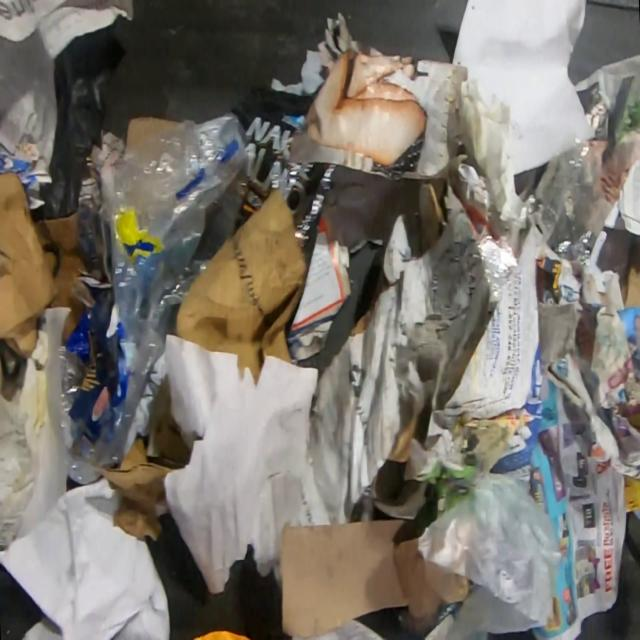cardboard: (175, 186, 309, 385), (278, 518, 468, 639), (93, 373, 192, 542), (64, 207, 130, 460), (285, 188, 353, 365), (0, 169, 60, 361), (32, 211, 104, 343), (617, 309, 640, 512), (418, 178, 449, 255), (122, 115, 178, 152), (0, 149, 41, 195), (617, 230, 640, 311)
soft_plastic: (68, 113, 248, 484), (414, 472, 563, 640), (229, 84, 338, 268), (518, 135, 614, 265), (476, 231, 517, 313), (59, 335, 86, 414)
